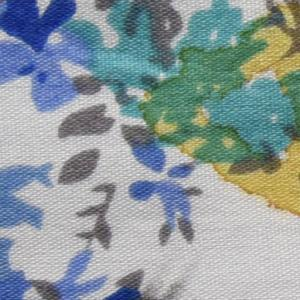Oil Stain: (137, 1, 300, 221)
Stain: (134, 261, 200, 300)
